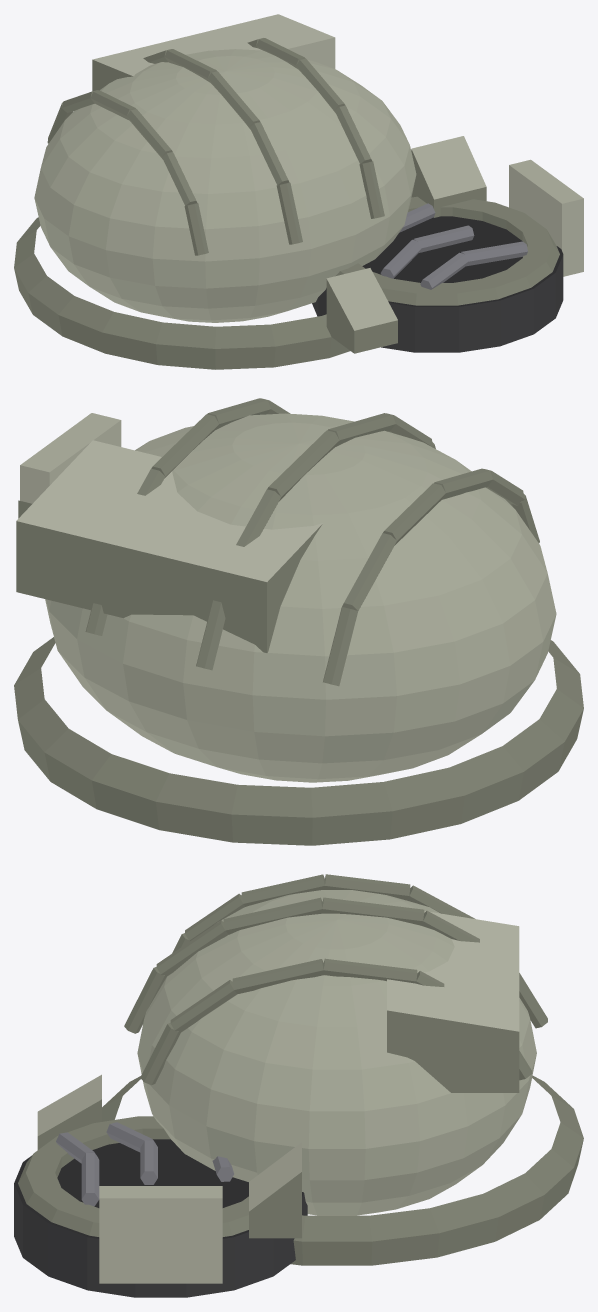
File: Building_ShipChunk_Mech.glb
3 renders of one model, top to bottom at view 1: azimuth 30°, elevation 25°; view 2: azimuth 150°, elevation 25°; view 3: azimuth 270°, elevation 25°, orthographic. The views are drawn at different scales.
Parts seen in each view (by area): view 1: ShipChunk_Mech; view 2: ShipChunk_Mech; view 3: ShipChunk_Mech.
Part boxes in pixels (bbox=[...]): ShipChunk_Mech: bbox=[14, 14, 583, 369]; ShipChunk_Mech: bbox=[14, 398, 583, 845]; ShipChunk_Mech: bbox=[14, 874, 583, 1297].
Bounding box in the file's own units: 2 × 1.04 × 1.94.
1 material, 1 textured.
